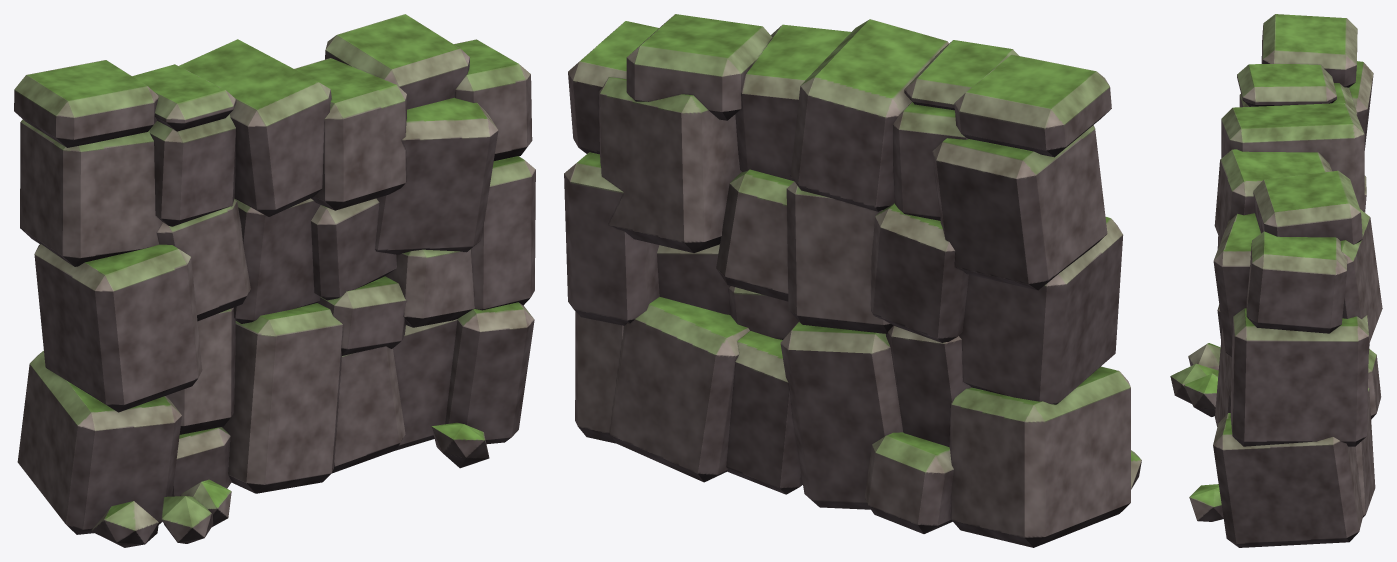
File: Env_Cliff_2.glb
3 views of the same model, side by side, from view 1: azimuth 30°, elevation 25°; view 2: azimuth 150°, elevation 25°; view 3: azimuth 270°, elevation 25° (orthographic). The views are drawn at different scales.
Parts seen in each view (by area): view 1: Env_Cliff_2.001; view 2: Env_Cliff_2.001; view 3: Env_Cliff_2.001.
Part boxes in pixels (left/top/right/bottom): Env_Cliff_2.001: left=14, top=14, right=535, bottom=547; Env_Cliff_2.001: left=564, top=14, right=1141, bottom=547; Env_Cliff_2.001: left=1170, top=14, right=1382, bottom=547.
Size of the model in its own units: 12 by 10.38 by 5.5.
1 material, 1 textured.
